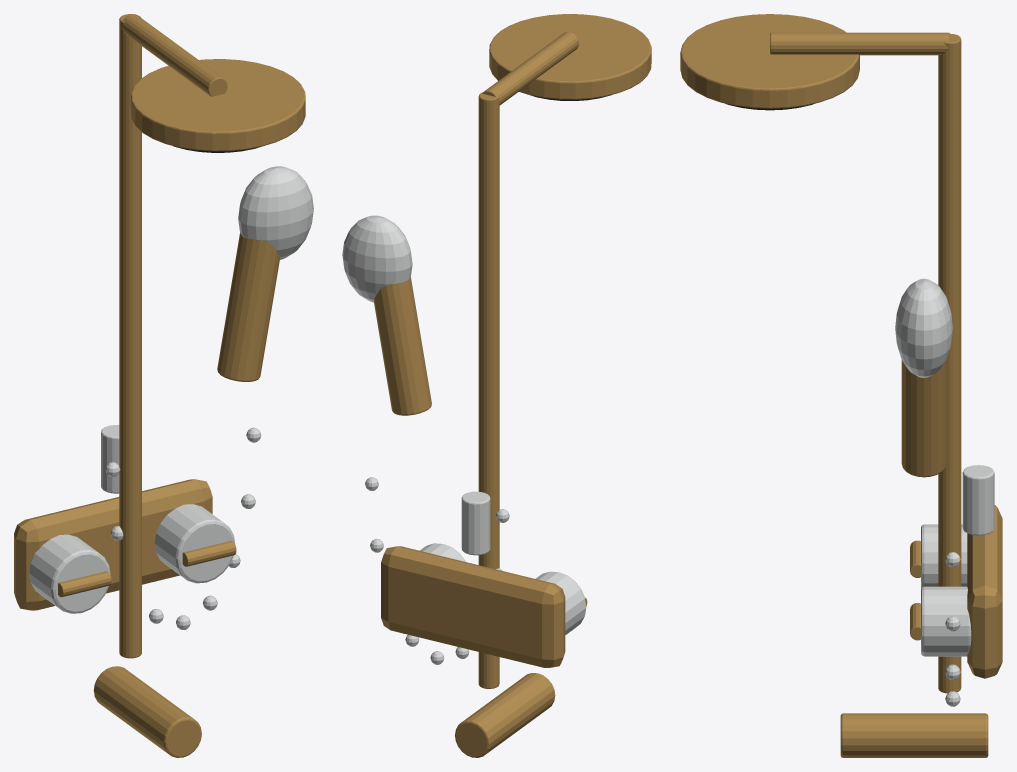
The model's file is bath_shower_fixture.glb.
3 renders of one model, left to right at view 1: azimuth 30°, elevation 25°; view 2: azimuth 150°, elevation 25°; view 3: azimuth 270°, elevation 25°, orthographic. The views are drawn at different scales.
Parts seen in each view (by area): view 1: bath_shower_fixture; view 2: bath_shower_fixture; view 3: bath_shower_fixture.
Part boxes in pixels (left/top/right/bottom): bath_shower_fixture: left=14, top=14, right=313, bottom=757; bath_shower_fixture: left=342, top=14, right=651, bottom=757; bath_shower_fixture: left=680, top=14, right=1002, bottom=757.
Size of the model in its own units: 0.49 by 1.24 by 0.5025.
